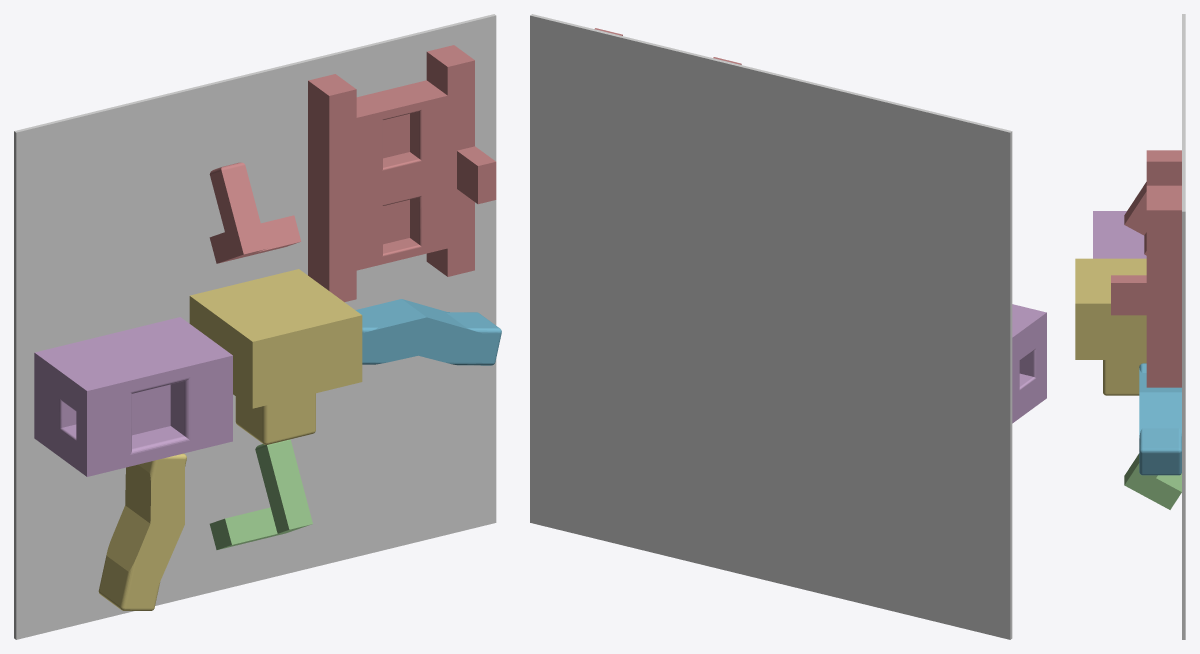
Rendered from pickup_layout.glb.
3 views of the same model, side by side, from view 1: azimuth 30°, elevation 25°; view 2: azimuth 150°, elevation 25°; view 3: azimuth 270°, elevation 25° (orthographic). The views are drawn at different scales.
Visible parts, largest first — view 1: world, 0.obj, 3.obj, 6.obj, 1.obj, 2.obj, 4.obj, 5.obj; view 2: world, 3.obj; view 3: 0.obj, 6.obj, 2.obj, world, 3.obj, 4.obj, 5.obj.
Boxes of the visible parts, <box> form: world: <box>14,14,496,639</box>; 0.obj: <box>308,45,496,302</box>; 3.obj: <box>34,317,232,476</box>; 6.obj: <box>189,269,362,444</box>; 1.obj: <box>98,453,186,610</box>; 2.obj: <box>355,299,501,365</box>; 4.obj: <box>209,439,312,549</box>; 5.obj: <box>209,162,301,263</box>; world: <box>530,14,1012,639</box>; 3.obj: <box>1012,304,1046,423</box>; 0.obj: <box>1111,150,1181,387</box>; 6.obj: <box>1075,258,1146,395</box>; 2.obj: <box>1139,363,1181,475</box>; world: <box>1182,14,1185,639</box>; 3.obj: <box>1093,211,1146,258</box>; 4.obj: <box>1124,453,1181,509</box>; 5.obj: <box>1124,182,1146,255</box>.
Size of the model in its own units: 26.32 by 26.57 by 6.2.
